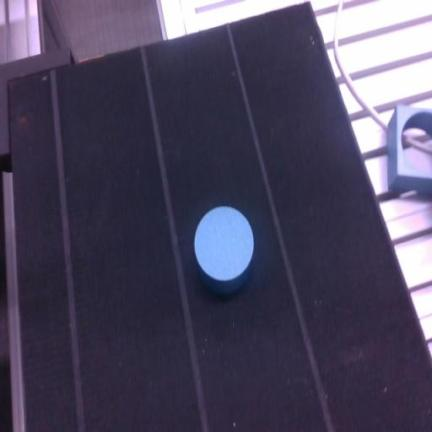cylinder: (194, 206, 254, 296)
